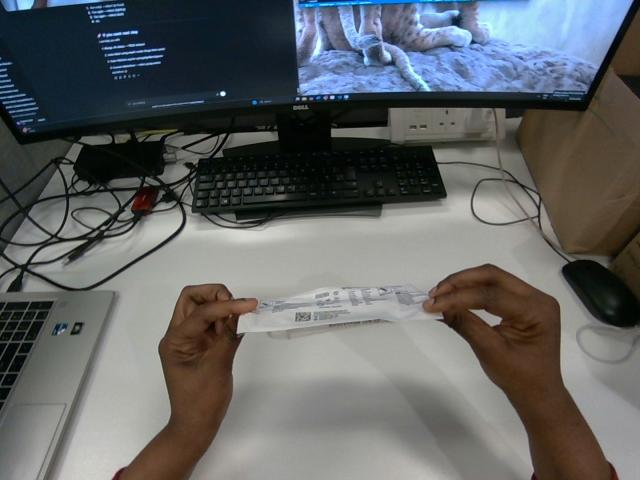syringe: (238, 285, 438, 332)
